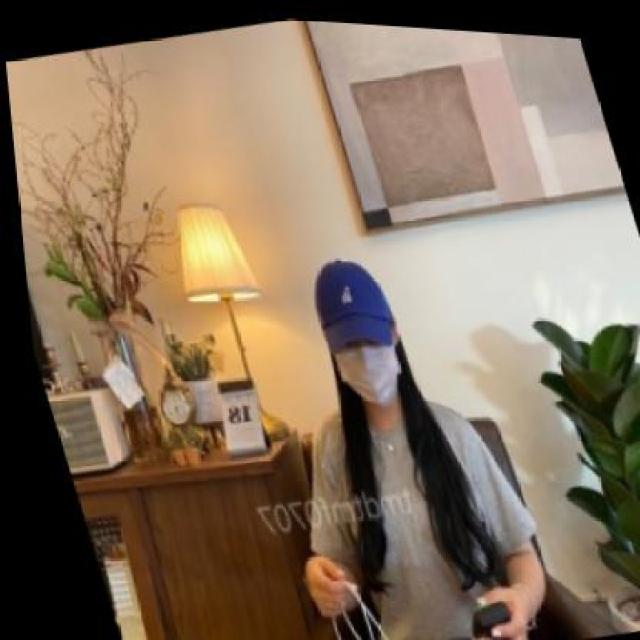hat: (291, 238, 403, 360)
